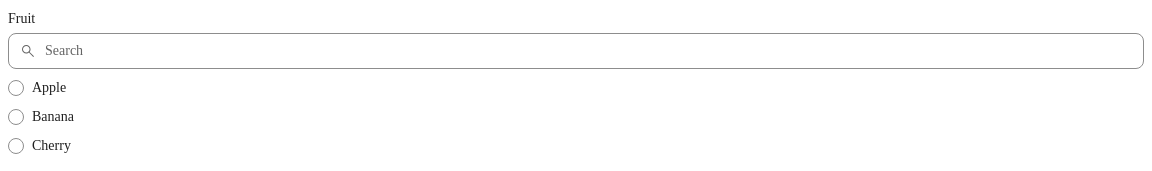
shows empty text when nothing matches
Type "zz" into the search field labelled "Fruit".
click(576, 51); type("zz")  # box [8,33,1144,69]
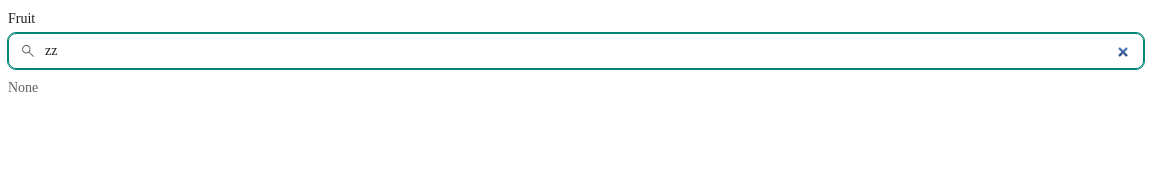
Check: the text "None" is shown, box [8,80,38,95]
Check: the radio button is gone
